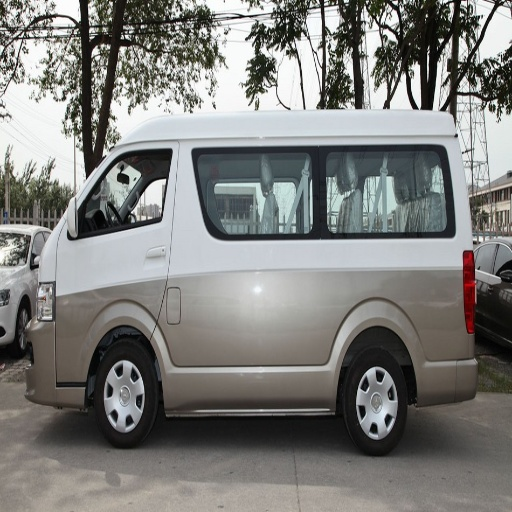back_glass: (265, 147, 397, 168)
trunk: (34, 242, 472, 402)
